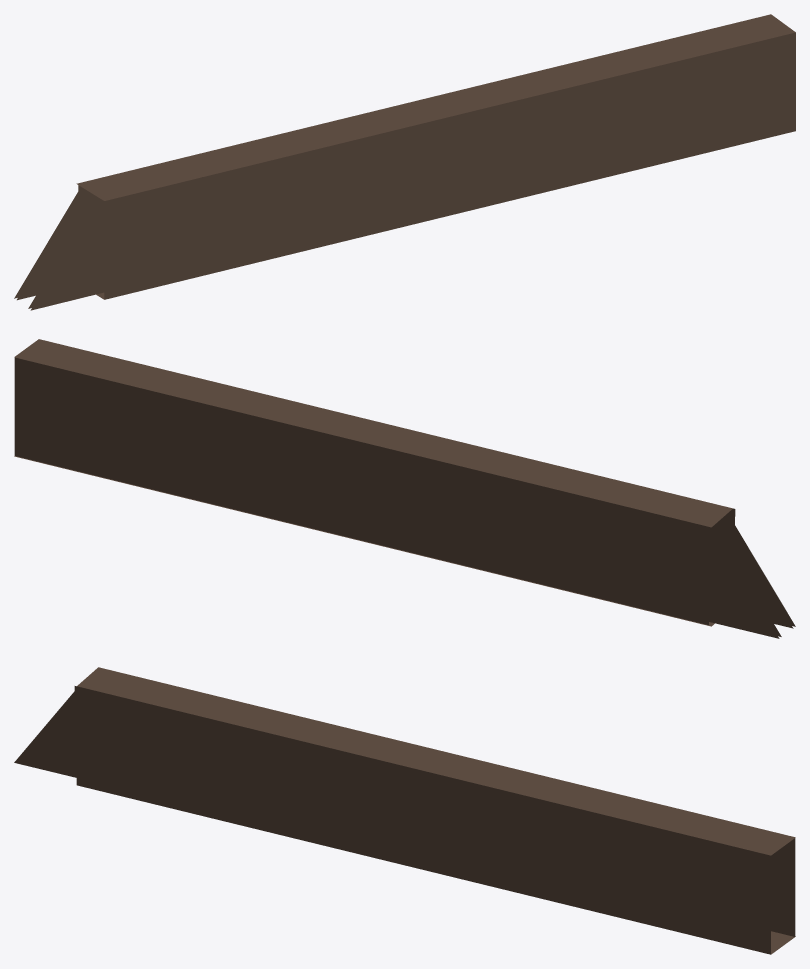
Rendered from DBK_Molding_Top_End_A_Mirror.fbx.
The picture shows the model from 3 angles, top to bottom: view 1: azimuth 30°, elevation 25°; view 2: azimuth 150°, elevation 25°; view 3: azimuth 330°, elevation 25°; orthographic projection.
Visible parts, largest first — view 1: DBK_Molding_Top_End_A_Mirror; view 2: DBK_Molding_Top_End_A_Mirror; view 3: DBK_Molding_Top_End_A_Mirror.
Boxes of the visible parts, x1,y1,x2,y2 form: DBK_Molding_Top_End_A_Mirror: [14, 14, 795, 310]; DBK_Molding_Top_End_A_Mirror: [14, 339, 795, 638]; DBK_Molding_Top_End_A_Mirror: [14, 667, 795, 954].
Bounding box in the file's own units: 80.54 × 10 × 4.56.
